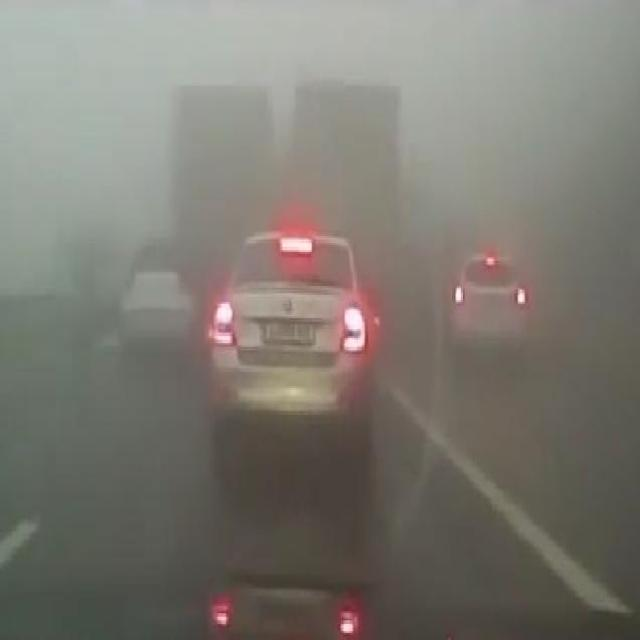bus: (288, 80, 402, 334), (170, 84, 277, 300)
car: (222, 224, 382, 408), (450, 242, 532, 360), (119, 256, 193, 350)
